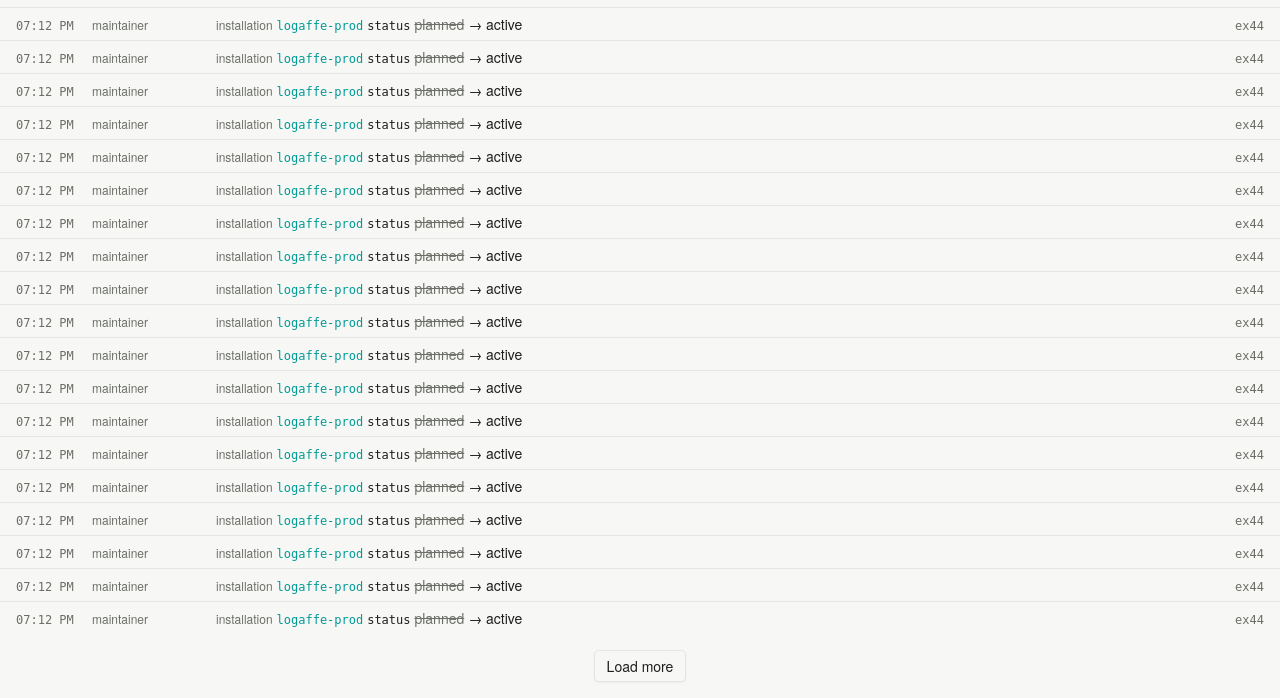
Test: what has been going on (VISION 6.2) › walks on from the cursor of the last event it shows
(page scrolled)
Step 1. Click the button "Load more" → (640, 666), box [594,650,686,682]
(page scrolled)
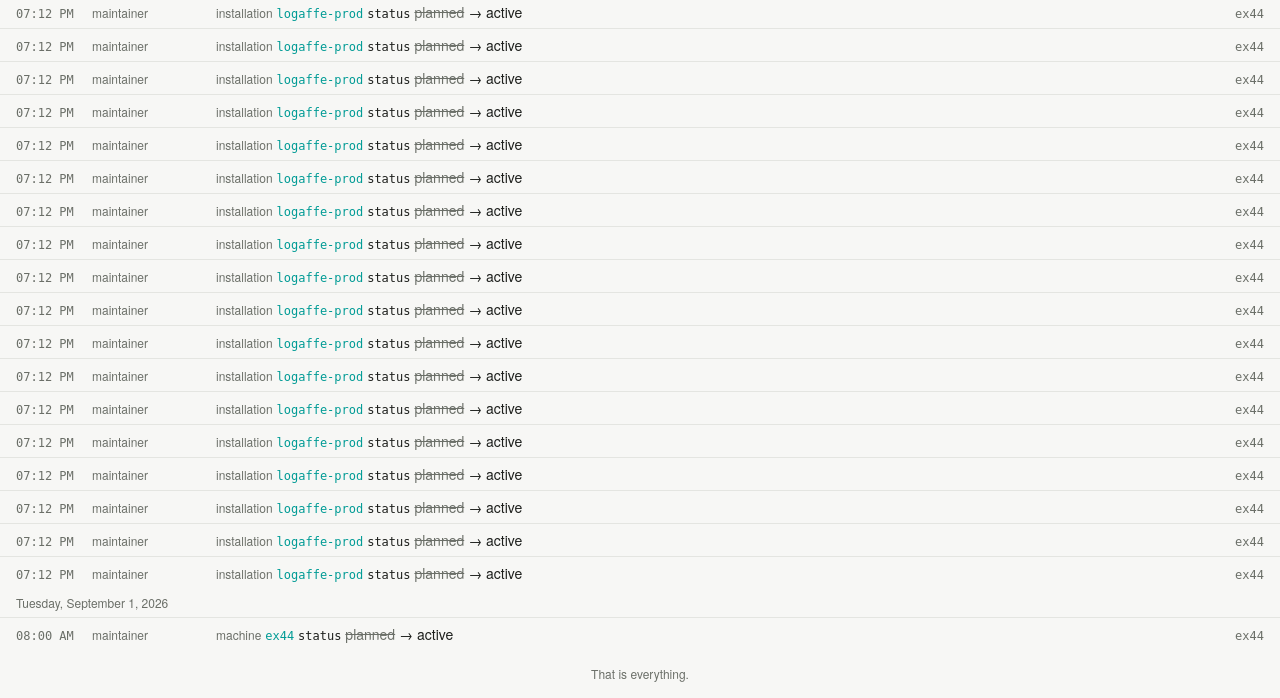
expect the link "ex44" is shown: met, box [265,624,294,644]
expect the text "That is everything." is shown: met, box [591,666,689,682]
